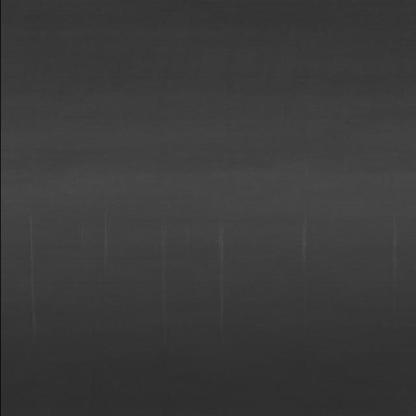waist_folding: (40, 197, 350, 333)
